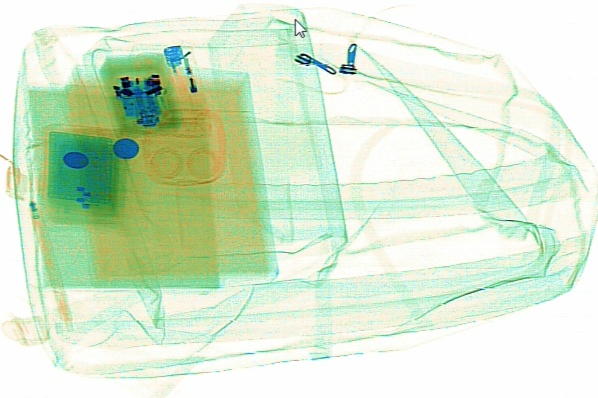lighter: (162, 42, 209, 129)
